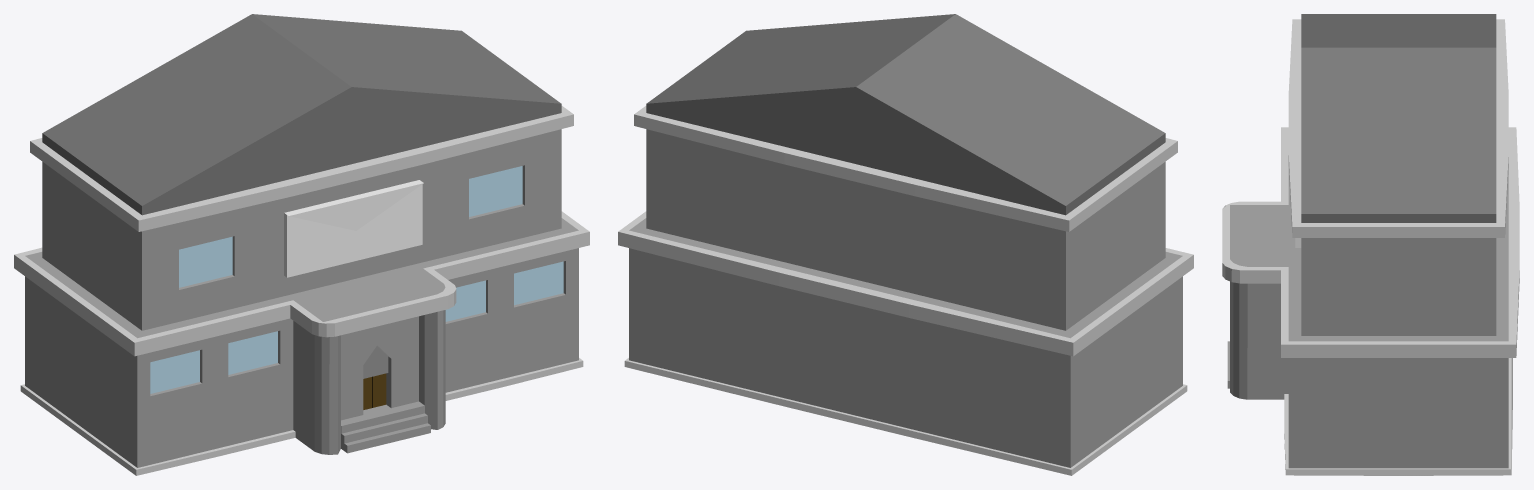
Rendered from postOffice.fbx.
The picture shows the model from 3 angles, left to right: view 1: azimuth 30°, elevation 25°; view 2: azimuth 150°, elevation 25°; view 3: azimuth 270°, elevation 25°; orthographic projection. The views are drawn at different scales.
Parts seen in each view (by area): view 1: PostOffice; view 2: PostOffice; view 3: PostOffice.
Boxes of the visible parts, bbox=[...] form: PostOffice: bbox=[14, 14, 589, 475]; PostOffice: bbox=[618, 14, 1193, 475]; PostOffice: bbox=[1222, 14, 1519, 475].
Size of the model in its own units: 3506 by 2418 by 2028.
